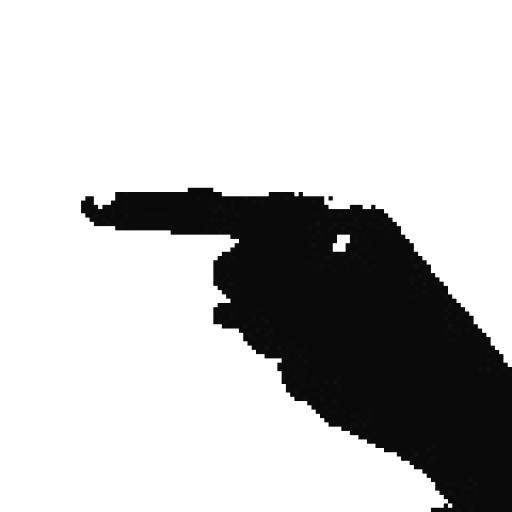index_right: (85, 184, 512, 388)
